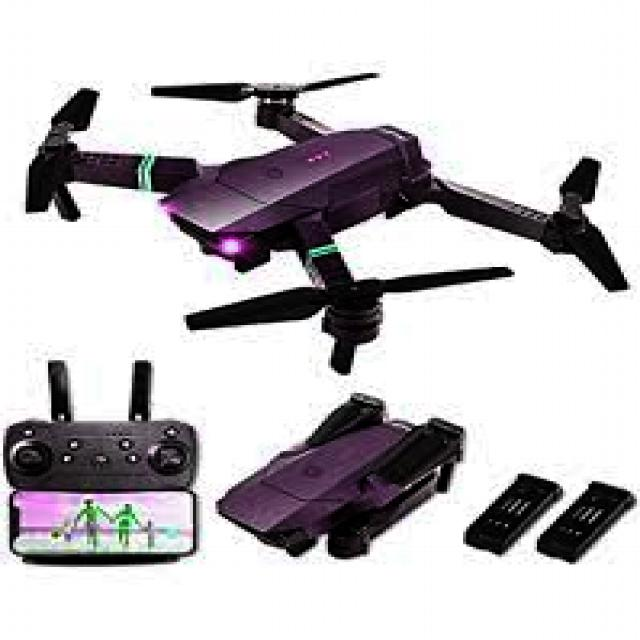drone: (0, 55, 640, 383)
